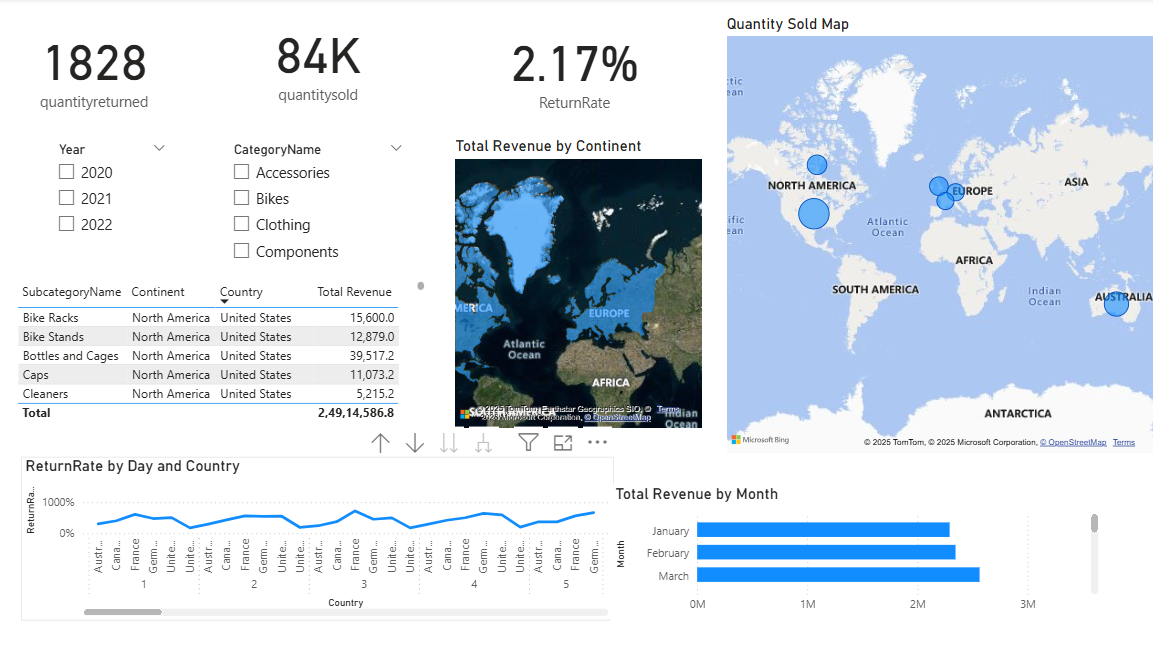

Layout of this report page (visuals, bound fields, positions):
{"tool":"powerbi","page":{"name":"Map dashboard","canvas":[1280,720],"ordinal":6},"visuals":[{"type":"card","fields":{"Values":["Measure.quantitysold"]},"box":[280,2,148,132],"z":0},{"type":"card","fields":{"Values":["Measure.quantityreturned"]},"box":[18,18,180,114],"z":1000},{"type":"card","fields":{"Values":["Measure.ReturnRate"]},"box":[496,2,280,150],"z":2000},{"type":"slicer","fields":{"Values":["Calendar Lookup.Year"]},"box":[56,152,142,134],"z":3000},{"type":"slicer","fields":{"Values":["Product Categories Lookup.CategoryName"]},"box":[248,152,210,154],"z":4000},{"type":"map","title":"Quantity Sold Map","fields":{"Category":["Territory Lookup.Country"],"Size":["Measure.quantitysold"]},"box":[796.7,18.3,483.3,486.7],"z":5000},{"type":"filledMap","fields":{"Category":["Territory Lookup.Continent"]},"box":[500,152,280,324],"z":6000},{"type":"lineChart","fields":{"Y":["Measure.ReturnRate"],"Category":["Calendar Lookup.Date.Variation.Date Hierarchy.Day","Territory Lookup.Country"]},"box":[28,504,650,180],"z":7000},{"type":"barChart","fields":{"Category":["Calendar Lookup.Date.Variation.Date Hierarchy.Month"],"Y":["Measure.Total Revenue"]},"box":[675,533.3,540,150],"z":8000},{"type":"tableEx","fields":{"Values":["Product Subcategories Lookup.SubcategoryName","Territory Lookup.Continent","Territory Lookup.Country","Measure.Total Revenue"]},"box":[18,306,458,164],"z":9000}]}

Visuals, with their boxes in screenshot pixels (x1, y1, x2, y2), scaled from the page's 1280x720 canvas onto the 1153x649 screenshot:
card - Measure.quantitysold: (left=252, top=2, right=386, bottom=121)
card - Measure.quantityreturned: (left=16, top=16, right=178, bottom=119)
card - Measure.ReturnRate: (left=447, top=2, right=699, bottom=137)
slicer - Calendar Lookup.Year: (left=50, top=137, right=178, bottom=258)
slicer - Product Categories Lookup.CategoryName: (left=223, top=137, right=413, bottom=276)
"Quantity Sold Map" map: (left=718, top=16, right=1152, bottom=455)
filledMap - Territory Lookup.Continent: (left=450, top=137, right=703, bottom=429)
lineChart - Measure.ReturnRate x Calendar Lookup.Date.Variation.Date Hierarchy.Day: (left=25, top=454, right=611, bottom=617)
barChart - Calendar Lookup.Date.Variation.Date Hierarchy.Month x Measure.Total Revenue: (left=608, top=481, right=1094, bottom=616)
tableEx - Product Subcategories Lookup.SubcategoryName x Territory Lookup.Continent: (left=16, top=276, right=429, bottom=424)
